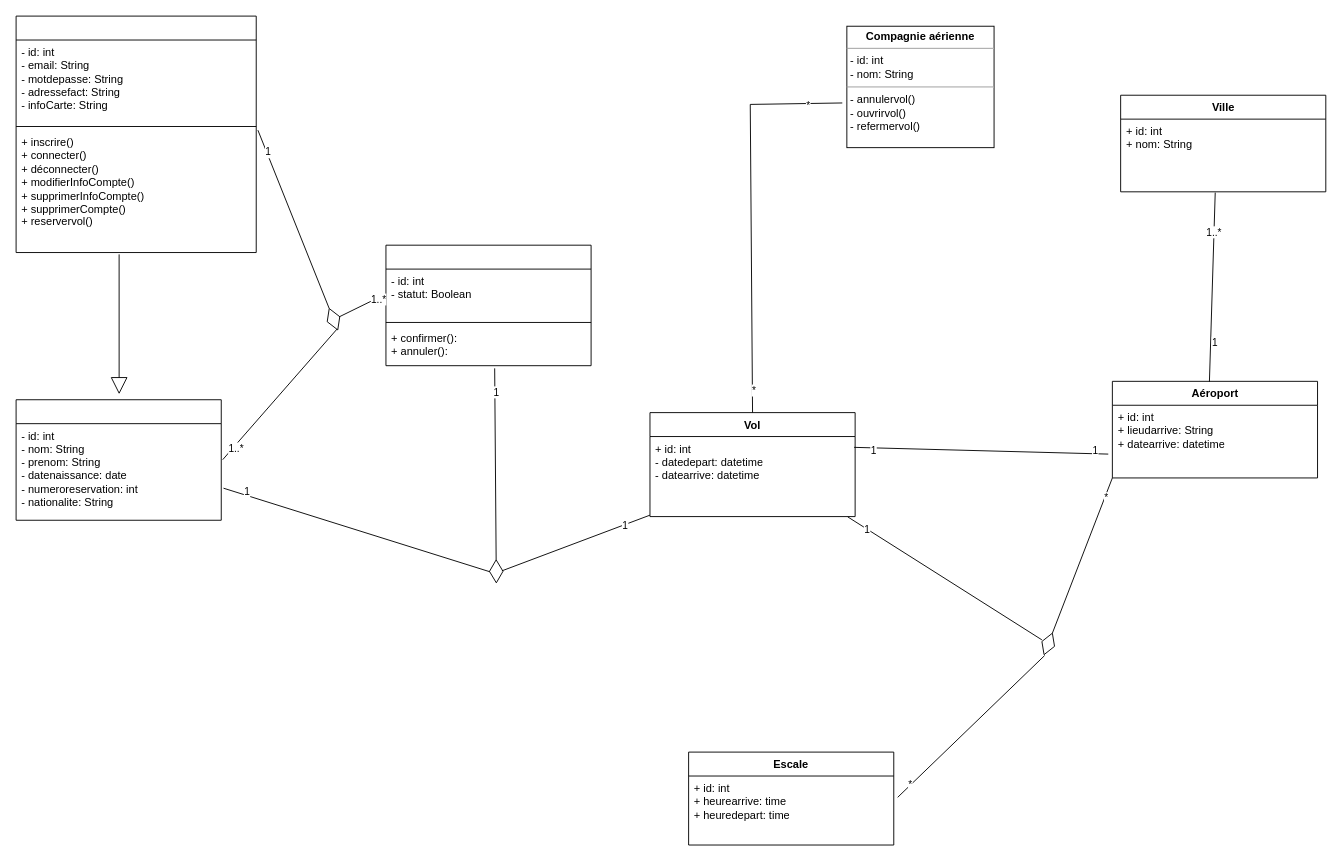
Image size: 1342x864. Some labels were removed from this diagram. Each missing label, with the box of its shape:
Passager: (15, 399, 221, 520)
Reservation: (385, 244, 591, 366)
Utilisateur: (15, 15, 256, 253)
